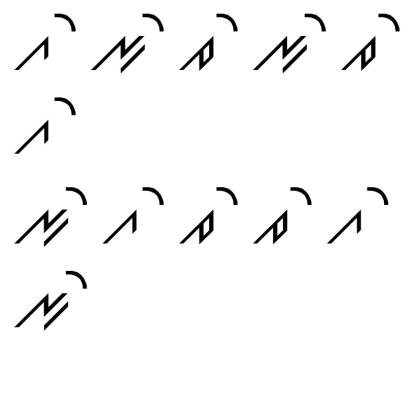gay: (7, 9, 82, 74), (13, 89, 79, 160), (102, 181, 168, 249), (326, 184, 392, 248)
ngay: (252, 5, 327, 77), (13, 181, 87, 253), (13, 267, 91, 334), (90, 10, 166, 77)
tay: (174, 5, 240, 75), (252, 184, 316, 249), (340, 5, 402, 72), (180, 183, 239, 250)
